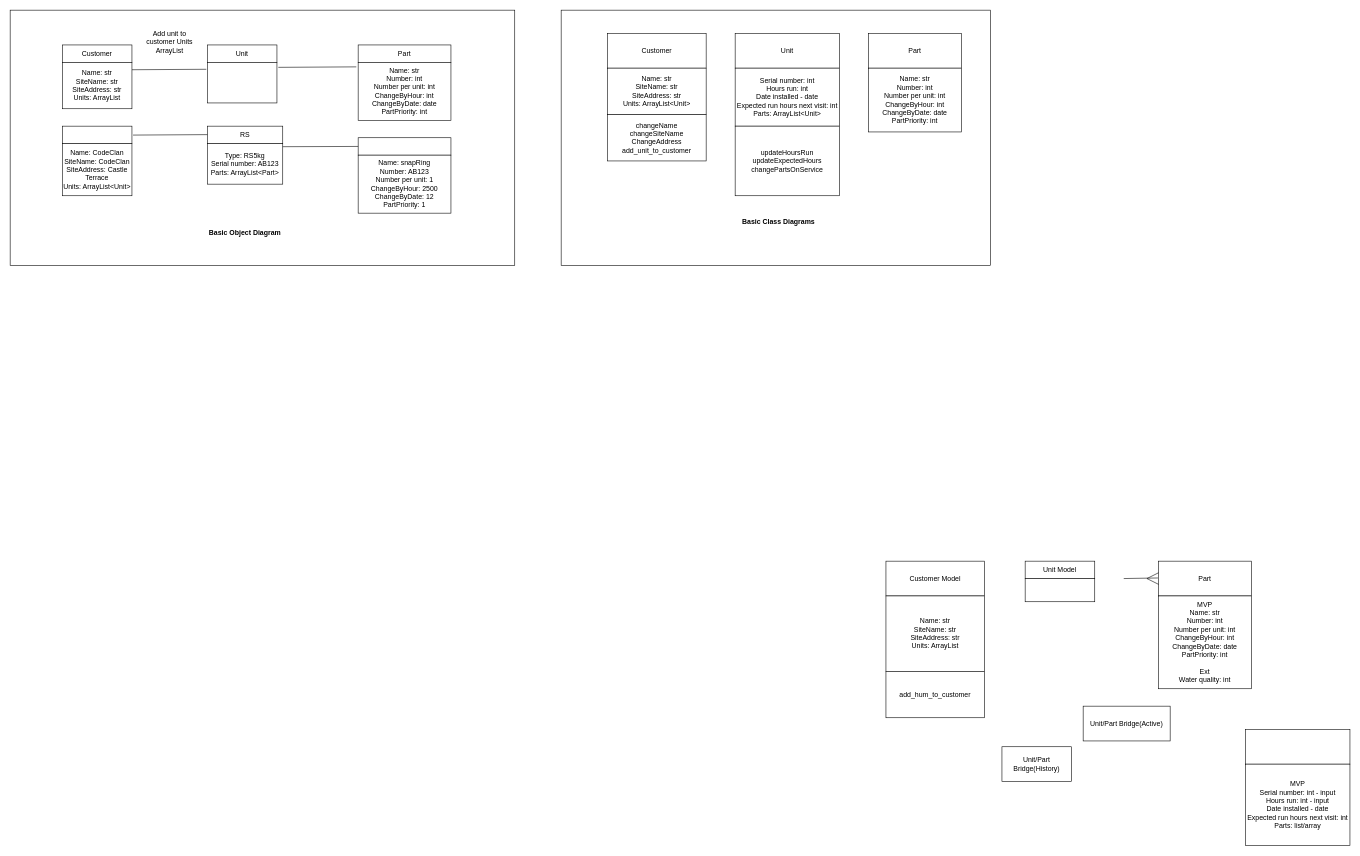
Some shapes in this 1360 by 856 pixel diagram are drawn without their labels. Here are the shapes that lost their labels. From the top down, the box of each, then its label:
(207, 62, 277, 103): Type: str Serial number: str Parts: list/array
(62, 126, 132, 144): CodeClan
(358, 137, 451, 155): Snap ring
(1025, 578, 1095, 602): Type PartsList
(1245, 729, 1350, 764): Unit/History
